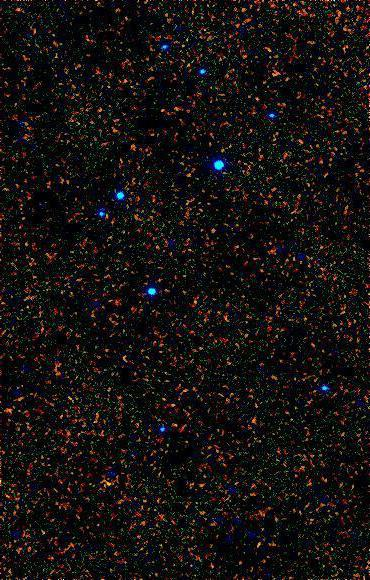star: (89, 468, 119, 498)
